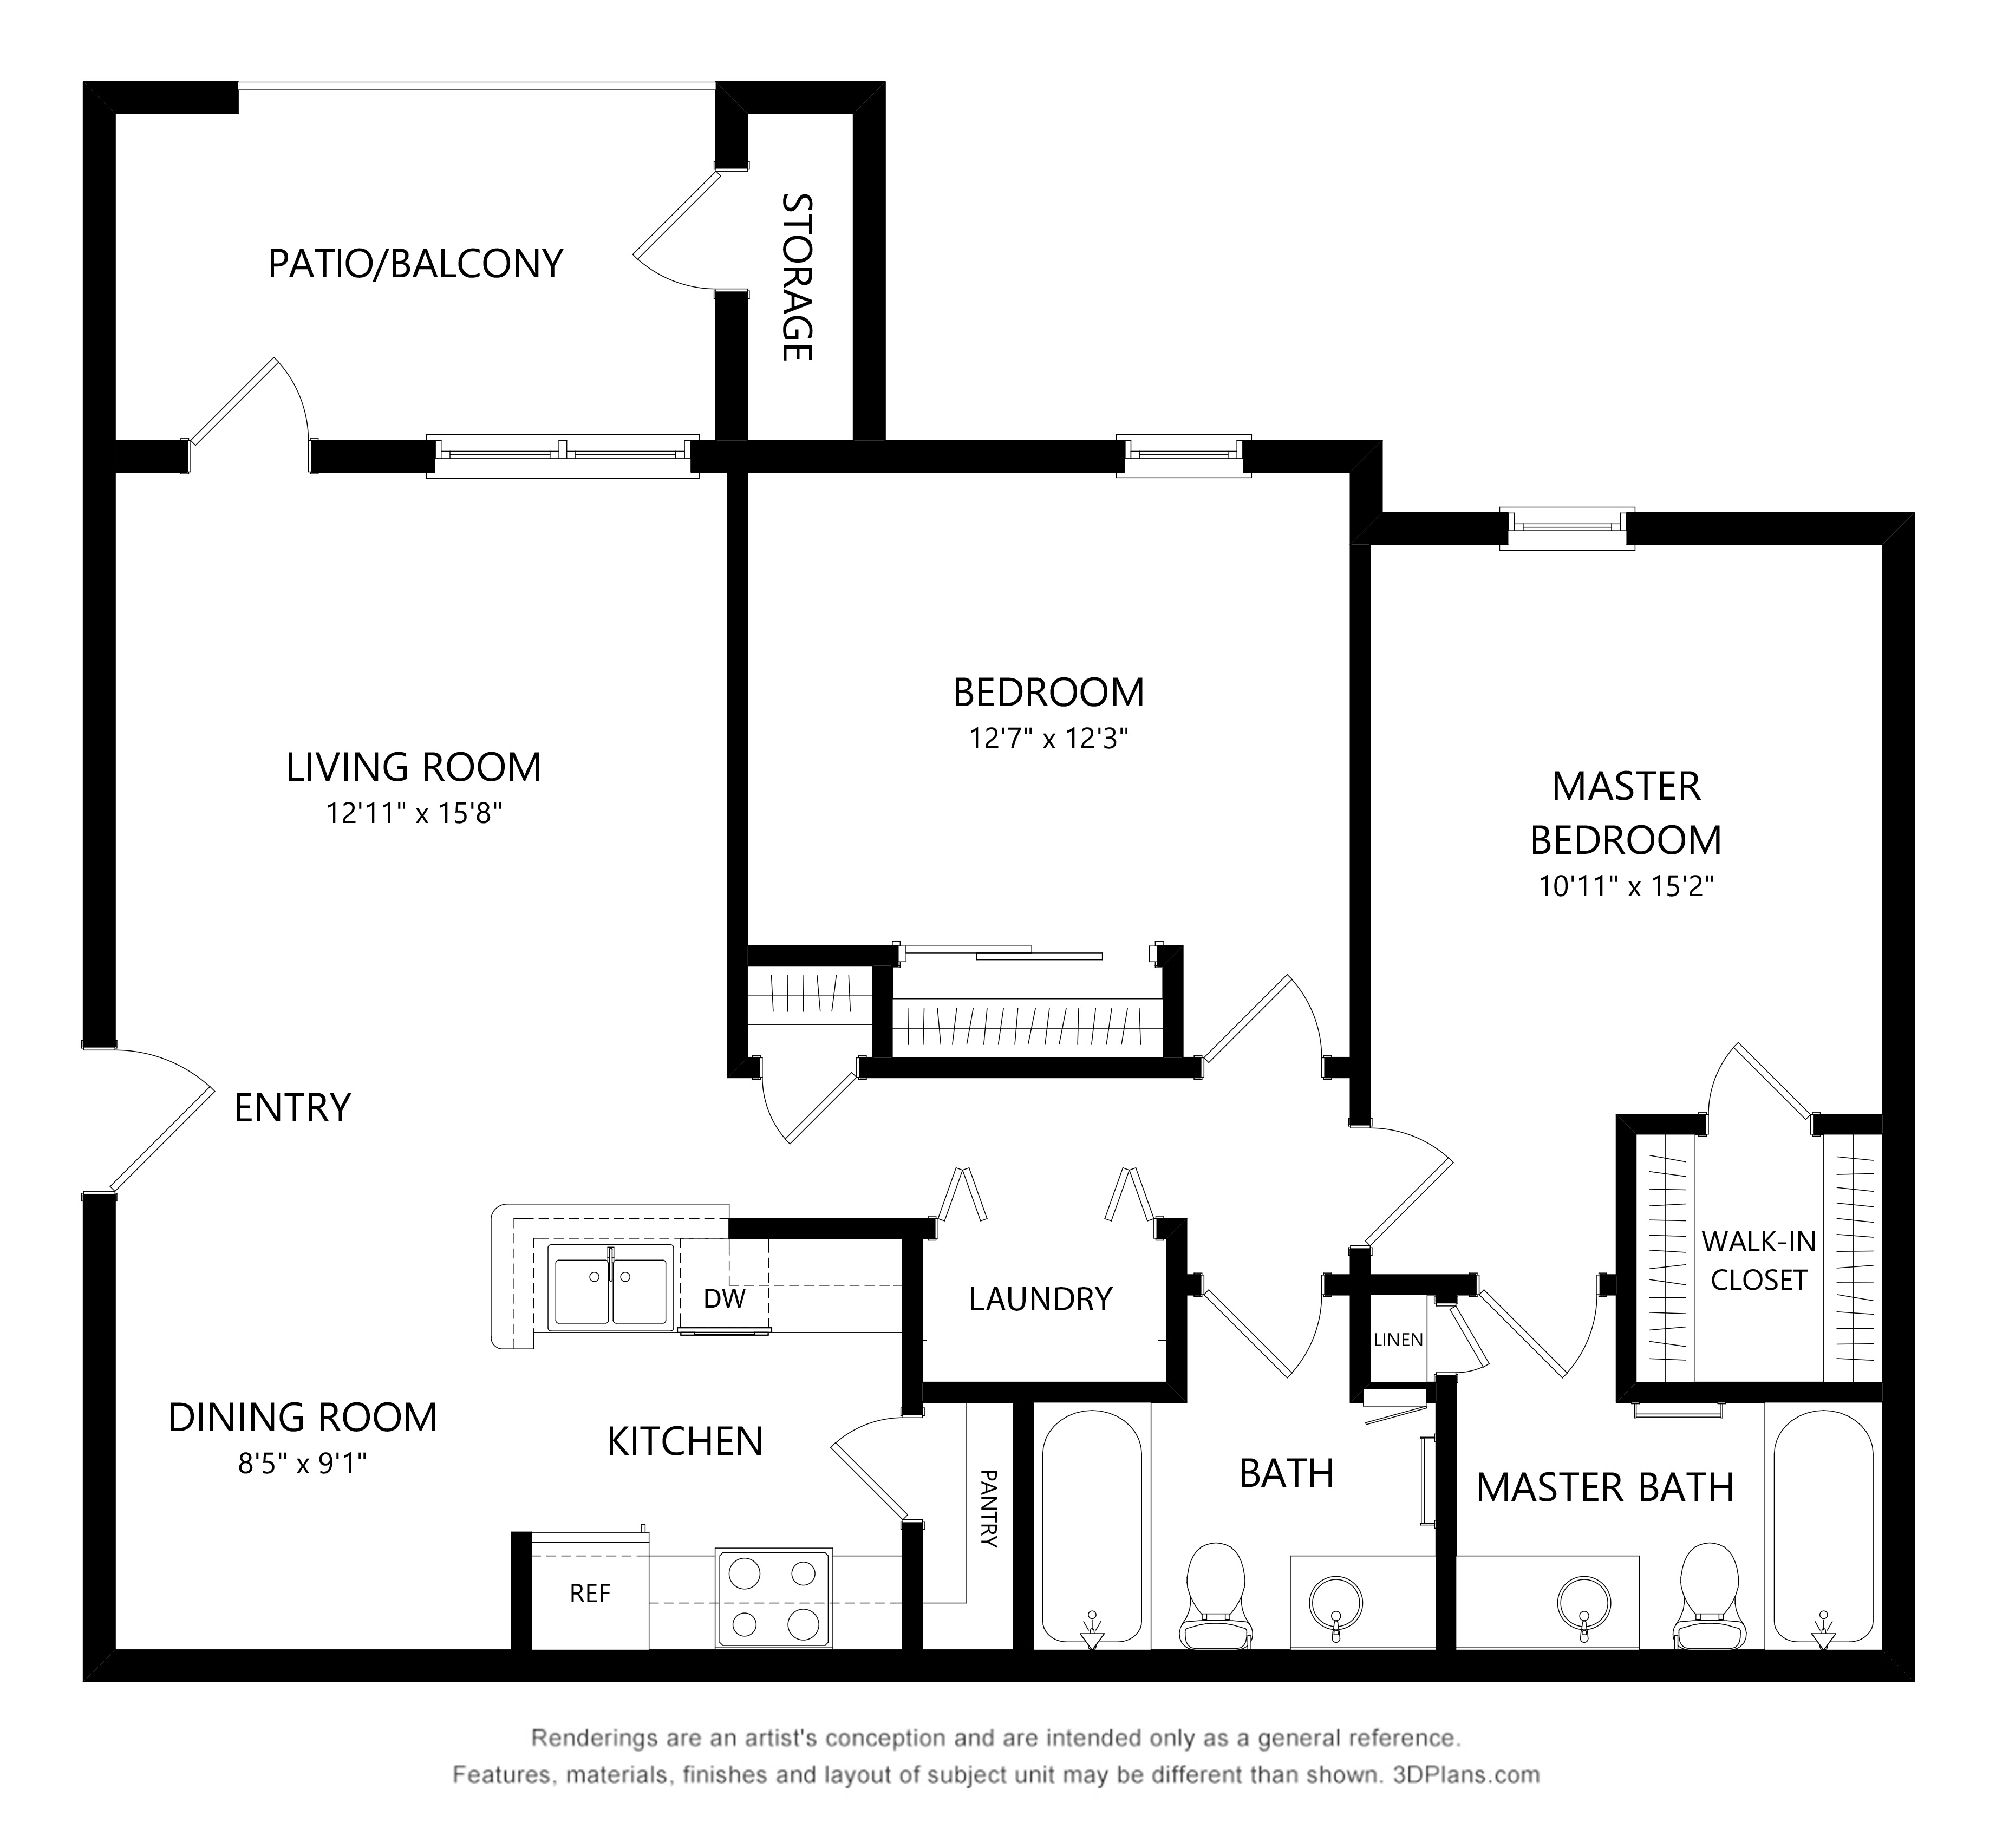room: (83, 433, 746, 1087), (732, 436, 1391, 1081), (85, 1212, 927, 1679), (1360, 511, 1926, 1132), (897, 1384, 1462, 1678), (1429, 1387, 1921, 1679), (523, 1372, 902, 1662), (1613, 1114, 1906, 1406), (722, 85, 895, 455)
